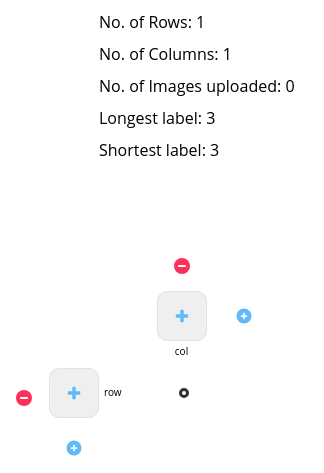
Test case: RadioMatrix › Add a column
Expected: the text "col" is shown once, [175,344,188,358]
Click the button with test id "add-column": (244, 316) [219,291,269,341]
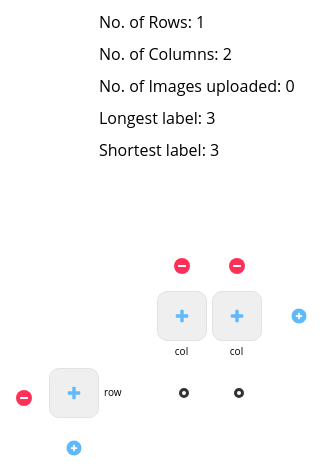
Now the text "col" is shown 2 times, box [175,344,188,358]; [230,344,243,358]
